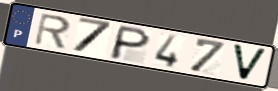4: (153, 33, 183, 69)
7: (73, 16, 114, 56), (191, 36, 228, 74)
P: (107, 24, 153, 61)
R: (33, 12, 73, 50)
V: (230, 42, 270, 83)
